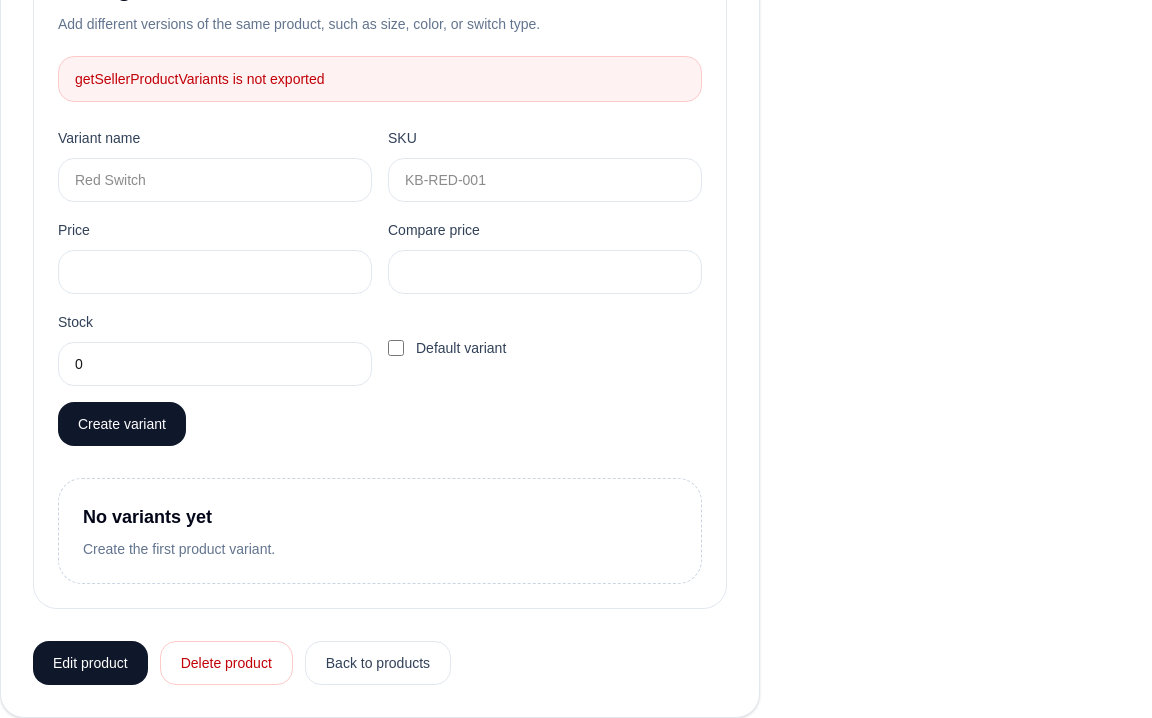
Test case: SellerProductDetail › shows delete error
(page scrolled)
Click the button "Delete product".
click(226, 663)  # box [160, 641, 293, 685]
(page scrolled)
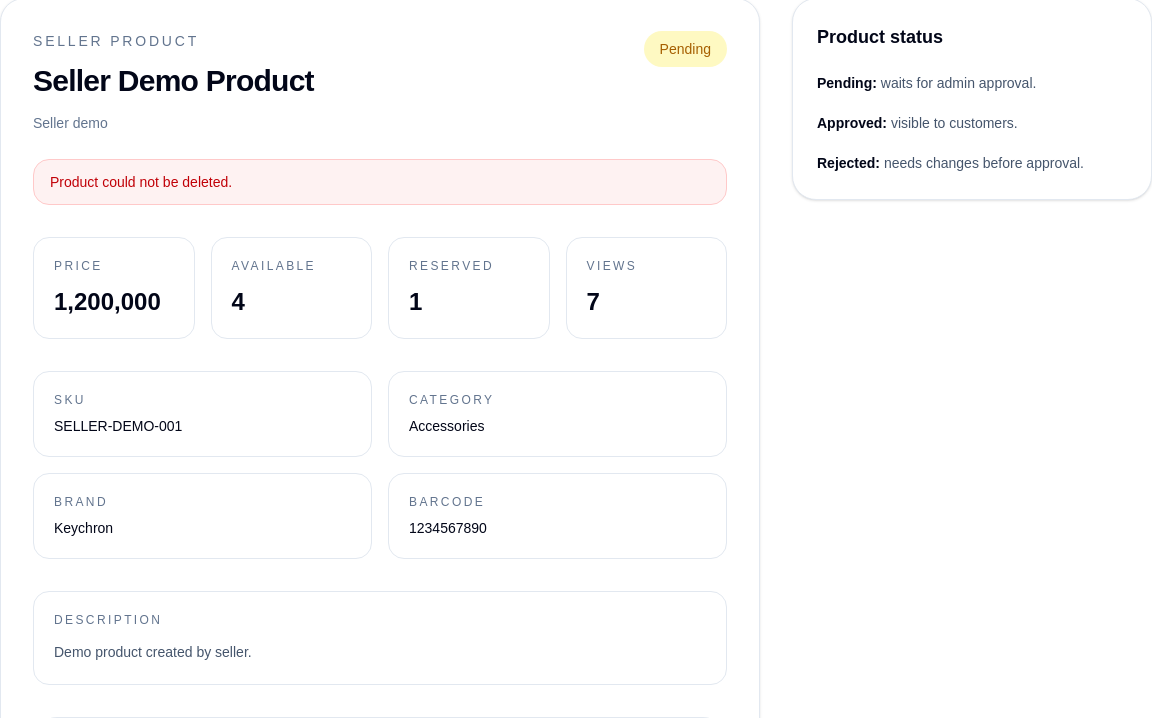
Now the text "Product could not be deleted." is shown, box [33, 159, 727, 205]
